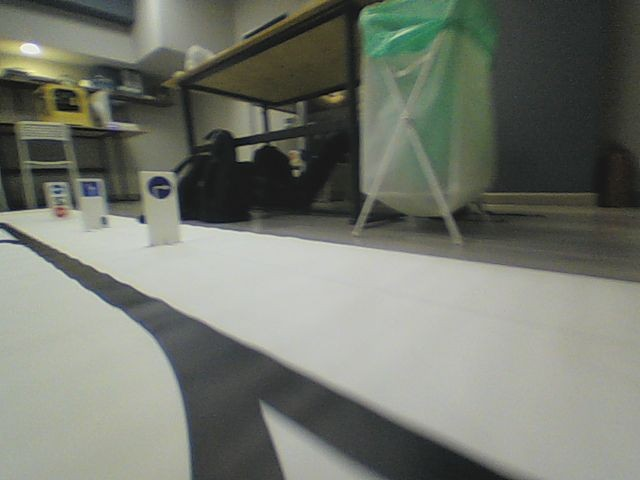Right: (146, 175, 172, 199)
